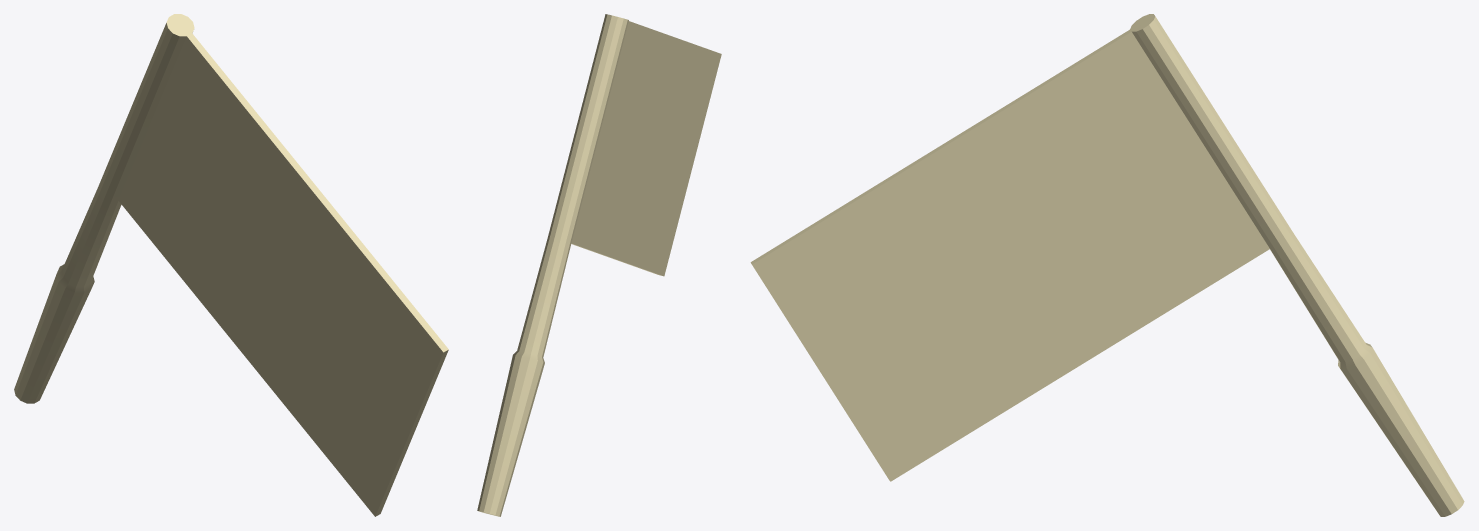
Rendered from Lever_Flag_Right.fbx.
The picture shows the model from 3 angles, left to right: view 1: azimuth 30°, elevation 25°; view 2: azimuth 150°, elevation 25°; view 3: azimuth 270°, elevation 25°; orthographic projection. The views are drawn at different scales.
Visible parts, largest first — view 1: Lever_Flag_Right; view 2: Lever_Flag_Right; view 3: Lever_Flag_Right.
Part boxes in pixels (<box>): Lever_Flag_Right: <box>14,14,448,516</box>; Lever_Flag_Right: <box>477,14,721,516</box>; Lever_Flag_Right: <box>750,14,1464,516</box>.
Size of the model in its own units: 1.05 by 5.32 by 6.91.
